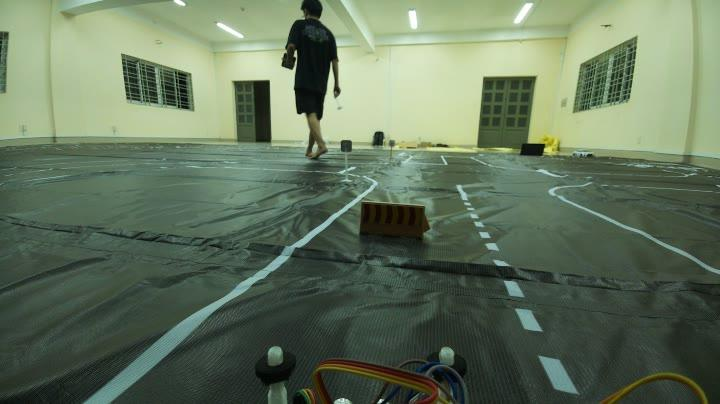roadblock: (350, 195, 441, 253)
